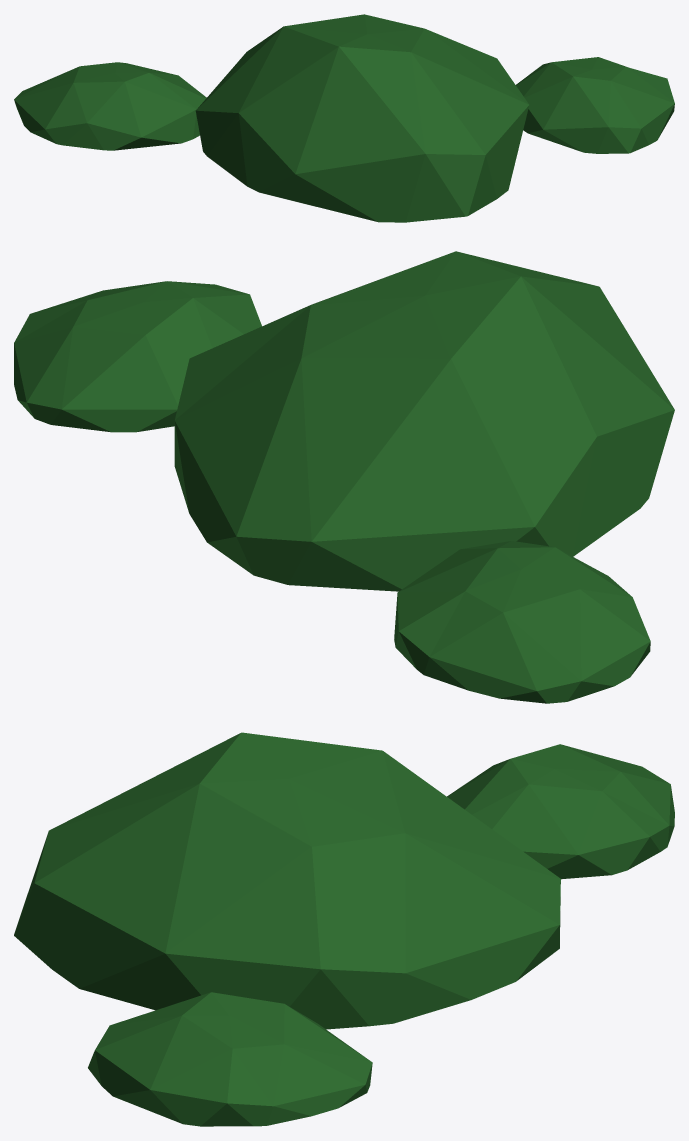
Rendered from Bush1.2.fbx.
3 renders of one model, top to bottom at view 1: azimuth 30°, elevation 25°; view 2: azimuth 150°, elevation 25°; view 3: azimuth 270°, elevation 25°, orthographic. The views are drawn at different scales.
Parts seen in each view (by area): view 1: Bush1.2; view 2: Bush1.2; view 3: Bush1.2.
Boxes of the visible parts, left/top/right/bottom form: Bush1.2: left=14, top=14, right=674, bottom=222; Bush1.2: left=14, top=251, right=674, bottom=703; Bush1.2: left=14, top=732, right=674, bottom=1126.
Bounding box in the file's own units: 470 × 112 × 374.
